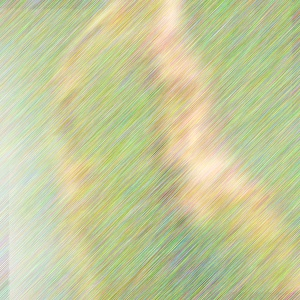Leaf_Blast: (49, 6, 234, 299)
